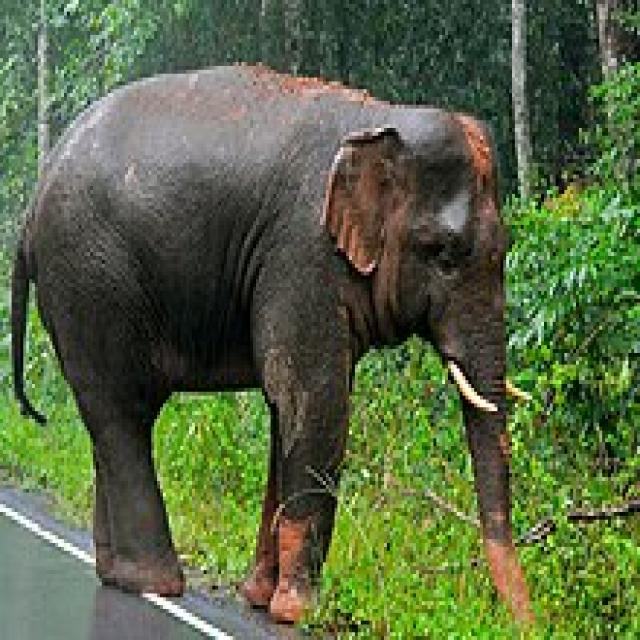Elephant: (12, 54, 538, 640)
